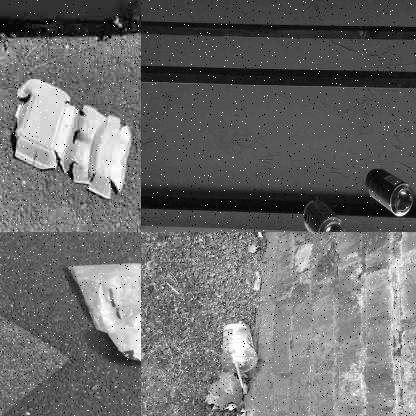metal: (365, 161, 415, 228), (298, 192, 349, 231)
plastic: (12, 76, 134, 197), (69, 260, 140, 363), (215, 320, 268, 373), (210, 377, 245, 412)
